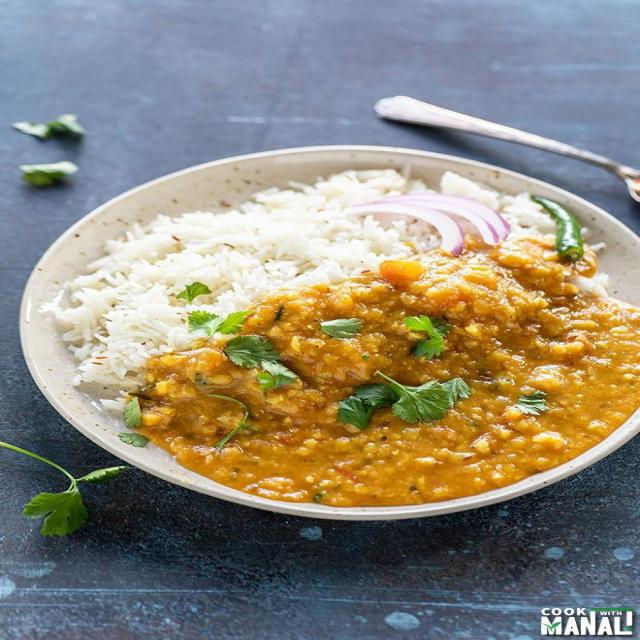dal: (119, 247, 640, 511)
rice: (58, 173, 580, 406)
